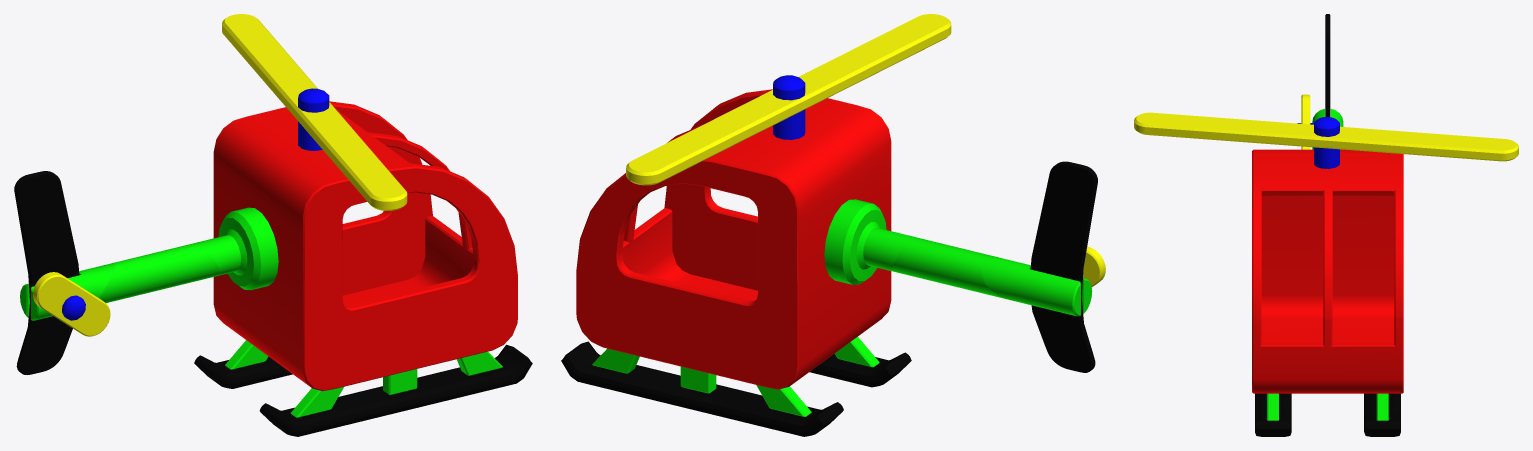
3 renders of one model, left to right at view 1: azimuth 30°, elevation 25°; view 2: azimuth 150°, elevation 25°; view 3: azimuth 270°, elevation 25°, orthographic. The views are drawn at different scales.
Parts seen in each view (by area): view 1: Vert_04, Vert_06, Vert_05, Vert_01, Vert_07, Vert_00, Vert_02, Vert_03; view 2: Vert_04, Vert_06, Vert_05, Vert_01, Vert_07, Vert_03, Vert_02, Vert_00; view 3: Vert_04, Vert_05, Vert_06, Vert_03, Vert_02, Vert_01, Vert_07.
Boxes of the visible parts, left/top/right/bottom form: Vert_04: left=193, top=165, right=424, bottom=436; Vert_06: left=342, top=192, right=532, bottom=405; Vert_05: left=213, top=83, right=515, bottom=254; Vert_01: left=16, top=255, right=115, bottom=374; Vert_07: left=14, top=171, right=76, bottom=274; Vert_00: left=99, top=243, right=219, bottom=302; Vert_02: left=309, top=123, right=407, bottom=210; Vert_03: left=222, top=14, right=314, bottom=90; Vert_04: left=677, top=163, right=911, bottom=436; Vert_06: left=561, top=184, right=757, bottom=405; Vert_05: left=579, top=70, right=891, bottom=240; Vert_01: left=982, top=246, right=1105, bottom=372; Vert_07: left=1033, top=161, right=1097, bottom=270; Vert_03: left=626, top=105, right=762, bottom=185; Vert_02: left=812, top=14, right=951, bottom=95; Vert_00: left=891, top=236, right=1005, bottom=298; Vert_04: left=1261, top=196, right=1394, bottom=342; Vert_05: left=1252, top=116, right=1403, bottom=324; Vert_06: left=1252, top=318, right=1403, bottom=436; Vert_03: left=1365, top=129, right=1518, bottom=161; Vert_02: left=1134, top=112, right=1297, bottom=144; Vert_01: left=1297, top=94, right=1343, bottom=149; Vert_07: left=1325, top=14, right=1330, bottom=113.
Size of the model in its own units: 159 by 96.45 by 133.
